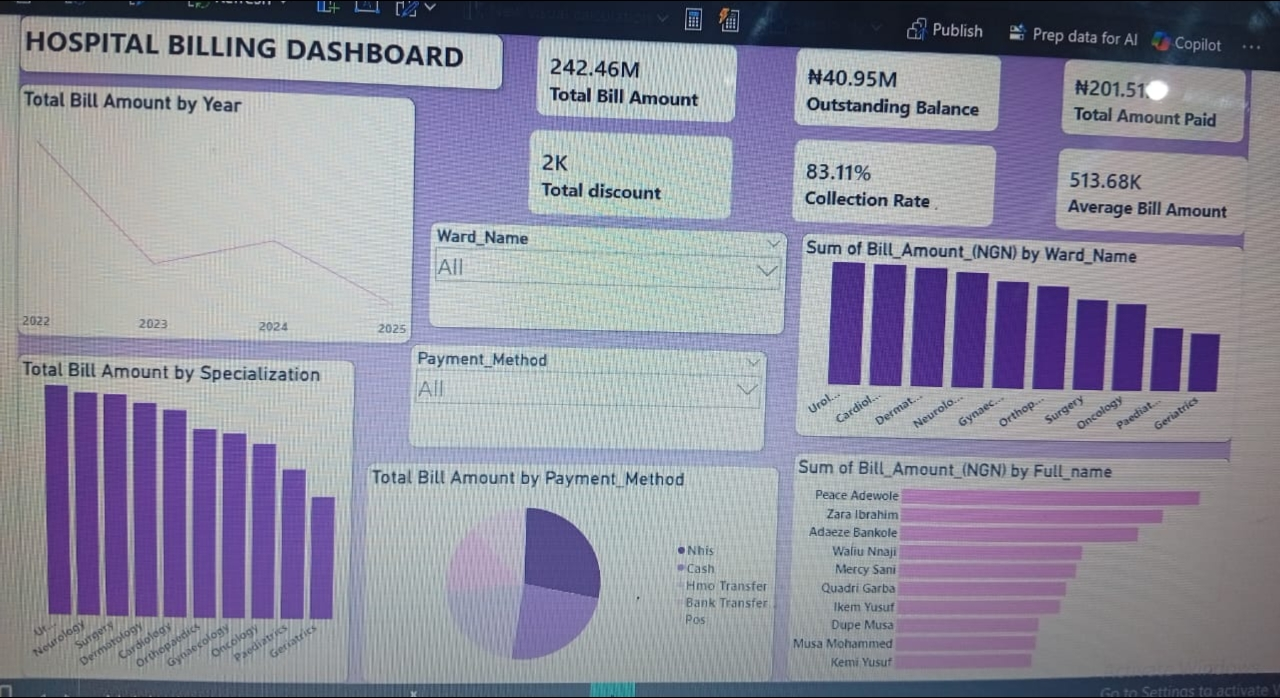

The page's visual inventory and layout, read from the dashboard file:
{"tool":"powerbi","page":{"name":"Billing dashboard","canvas":[4000,2100],"ordinal":1},"visuals":[{"type":"clusteredColumnChart","fields":{"Y":["Sum(Billing.Bill_Amount_(NGN))"],"Category":["Wards.Ward_Name"]},"box":[2473.1,597.8,1526.9,675.3],"z":0},{"type":"lineChart","fields":{"Y":["Admissions.Total Bill Amount"],"Category":["Billing.Payment_Date.Variation.Date Hierarchy.Year","Billing.Payment_Date.Variation.Date Hierarchy.Quarter","Billing.Payment_Date.Variation.Date Hierarchy.Month","Billing.Payment_Date.Variation.Date Hierarchy.Day"]},"box":[0,210.8,1212.9,782.8],"z":1000},{"type":"clusteredColumnChart","fields":{"Y":["Admissions.Total Bill Amount"],"Category":["Doctors.Specialization"]},"box":[0,1049.5,1040.9,1049.5],"z":2000},{"type":"clusteredBarChart","fields":{"Category":["Patients.Full_name"],"Y":["Sum(Billing.Bill_Amount_(NGN))"]},"box":[2473.1,1329,1526.9,769.9],"z":3000},{"type":"pieChart","fields":{"Category":["Billing.Payment_Method"],"Y":["Admissions.Total Bill Amount"]},"box":[1083.9,1376.3,1341.9,722.6],"z":4000},{"type":"textbox","box":[0,0,1483.9,176.3],"z":5000},{"type":"slicer","fields":{"Values":["Wards.Ward_Name"]},"box":[1264.5,597.8,1161.3,339.8],"z":6000},{"type":"slicer","fields":{"Values":["Billing.Payment_Method"]},"box":[1212.9,993.5,1161.3,335.5],"z":7000},{"type":"cardVisual","fields":{"Data":["Admissions.Total Bill Amount"]},"box":[1591.4,0,645.2,249.5],"z":8000},{"type":"cardVisual","fields":{"Data":["Admissions.Outstanding Balance"]},"box":[2425.8,0,679.6,249.5],"z":9000},{"type":"cardVisual","fields":{"Data":["Admissions.Total Amount Paid"]},"box":[3320.4,0,658.1,249.5],"z":10000},{"type":"cardVisual","fields":{"Data":["Admissions.Collection Rate"]},"box":[2434.4,292.5,671,271],"z":11000},{"type":"cardVisual","fields":{"Data":["Admissions.Average Bill Amount"]},"box":[3316.1,292.5,683.9,271],"z":12000},{"type":"cardVisual","fields":{"Data":["Admissions.Total discount"]},"box":[1574.2,292.5,662.4,271],"z":13000}]}

Visuals, with their boxes on the page's 4000x2100 design canvas (x1, y1, x2, y2). These are canvas units, not pixel positions in the 1280x698 screenshot, which may show the page scaled, cropped or inside an application window:
clusteredColumnChart - Sum(Billing.Bill_Amount_(NGN)) x Wards.Ward_Name: locate(2473, 598, 4000, 1273)
lineChart - Admissions.Total Bill Amount x Billing.Payment_Date.Variation.Date Hierarchy.Year: locate(0, 211, 1213, 994)
clusteredColumnChart - Admissions.Total Bill Amount x Doctors.Specialization: locate(0, 1050, 1041, 2099)
clusteredBarChart - Patients.Full_name x Sum(Billing.Bill_Amount_(NGN)): locate(2473, 1329, 4000, 2099)
pieChart - Billing.Payment_Method x Admissions.Total Bill Amount: locate(1084, 1376, 2426, 2099)
textbox: locate(0, 0, 1484, 176)
slicer - Wards.Ward_Name: locate(1264, 598, 2426, 938)
slicer - Billing.Payment_Method: locate(1213, 994, 2374, 1329)
cardVisual - Admissions.Total Bill Amount: locate(1591, 0, 2237, 250)
cardVisual - Admissions.Outstanding Balance: locate(2426, 0, 3105, 250)
cardVisual - Admissions.Total Amount Paid: locate(3320, 0, 3978, 250)
cardVisual - Admissions.Collection Rate: locate(2434, 292, 3105, 564)
cardVisual - Admissions.Average Bill Amount: locate(3316, 292, 4000, 564)
cardVisual - Admissions.Total discount: locate(1574, 292, 2237, 564)
